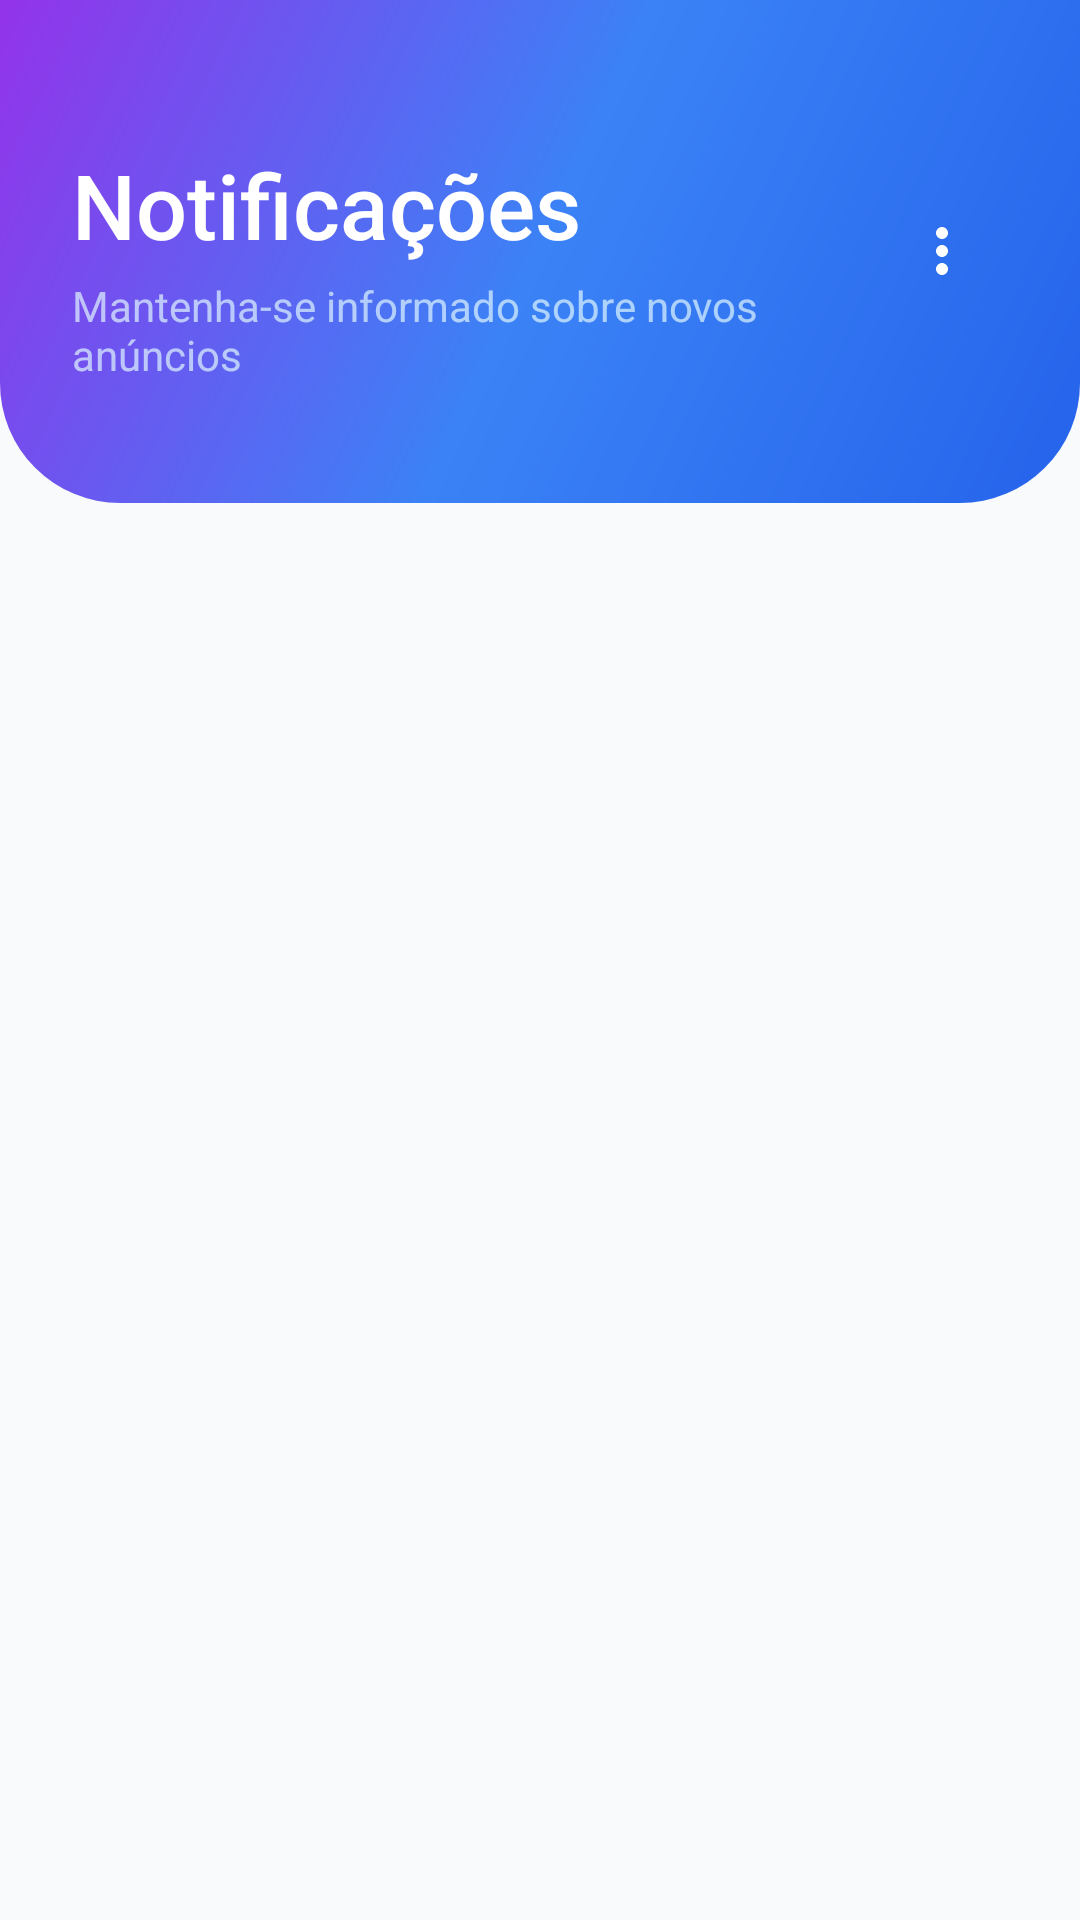

Named icons in this screenshot (1080px x 1920px) and their centers, point (x, y):
Menu de opções: point (942, 251)
